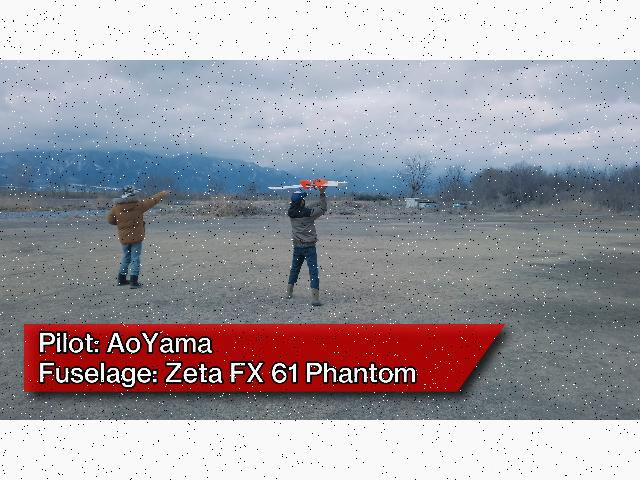Anti-Drone: (267, 176, 351, 191)
